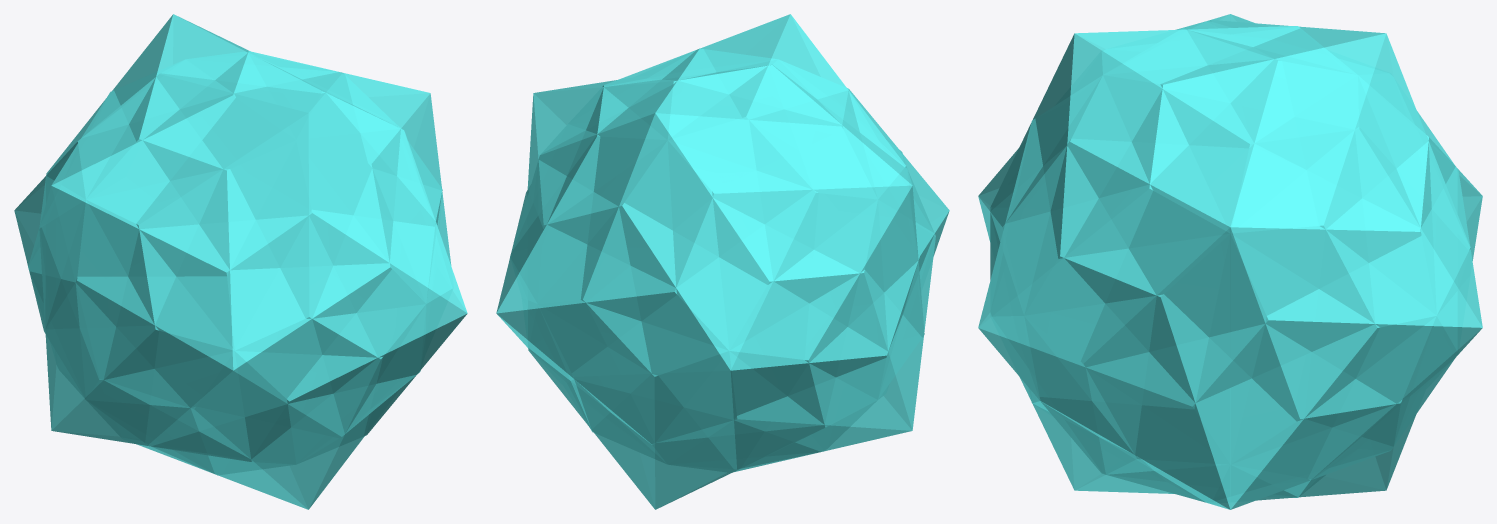
Rendered from MedialPentagonalHexecontahedron.obj.
3 views of the same model, side by side, from view 1: azimuth 30°, elevation 25°; view 2: azimuth 150°, elevation 25°; view 3: azimuth 270°, elevation 25° (orthographic). The views are drawn at different scales.
Bounding box in the file's own units: 2.46 × 2.46 × 2.46.
